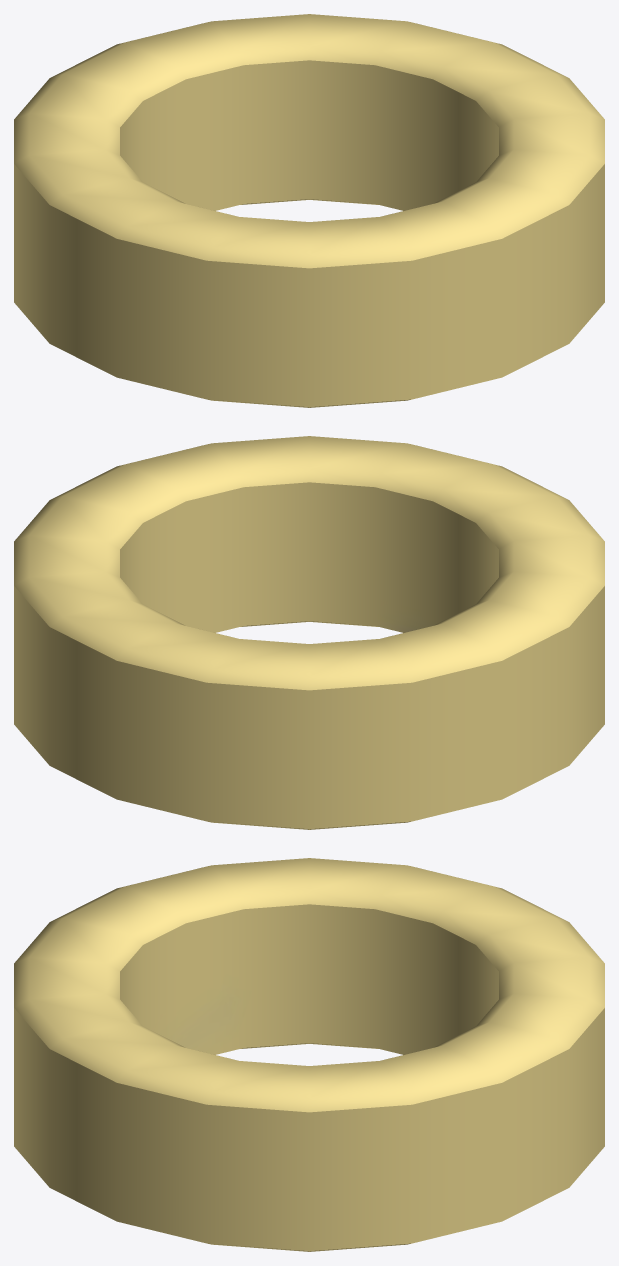
Rendered from circulo.gltf.
3 views of the same model, one above another, from view 1: azimuth 30°, elevation 25°; view 2: azimuth 150°, elevation 25°; view 3: azimuth 270°, elevation 25° (orthographic).
Parts seen in each view (by area): view 1: g; view 2: g; view 3: g.
Part boxes in pixels (<box>): g: <box>14,14,604,407</box>; g: <box>14,436,604,829</box>; g: <box>14,858,604,1251</box>.
Bounding box in the file's own units: 0.1113 × 0.0314 × 0.1096.
